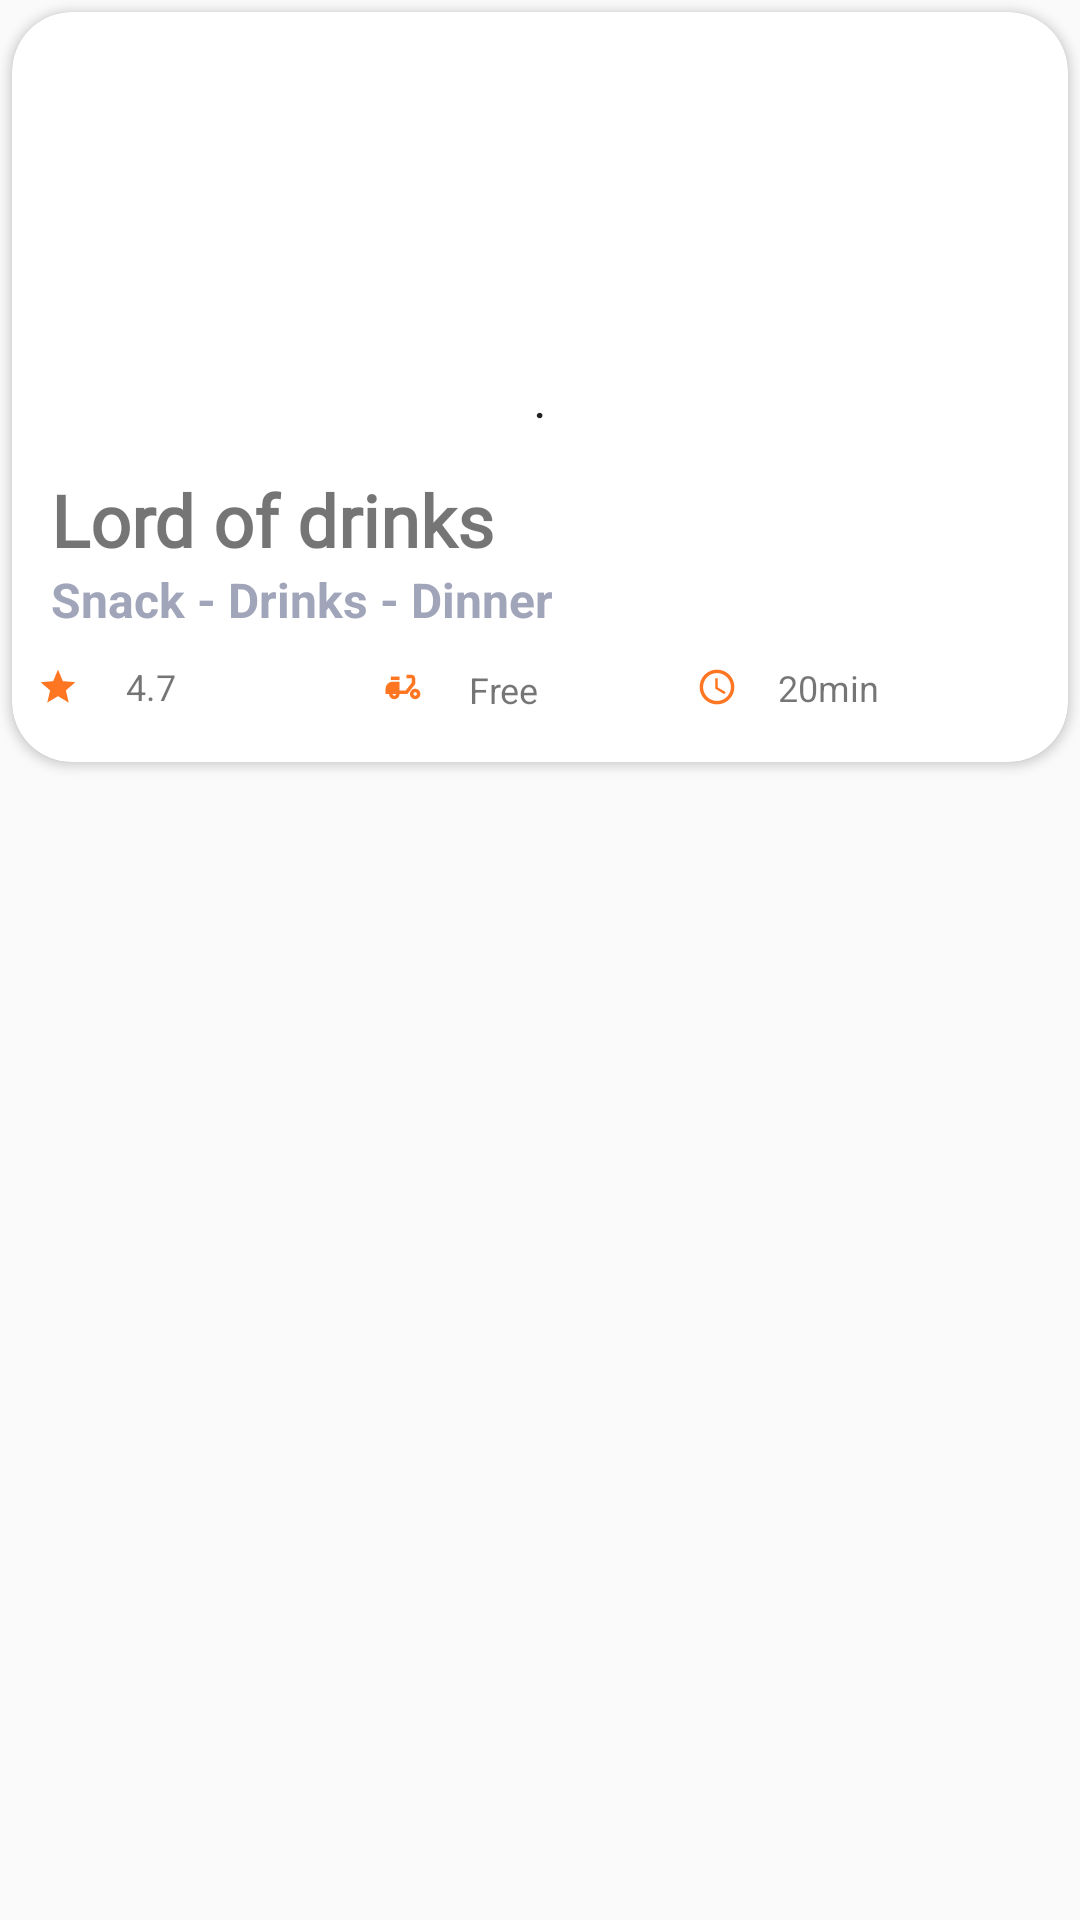

Icons on this 1080w x 1920h Android screen, each with its box as (x1, y1, x2, y2):
clock: (699, 669, 735, 705)
delivery: (385, 674, 421, 700)
ratingstar: (41, 670, 75, 703)
